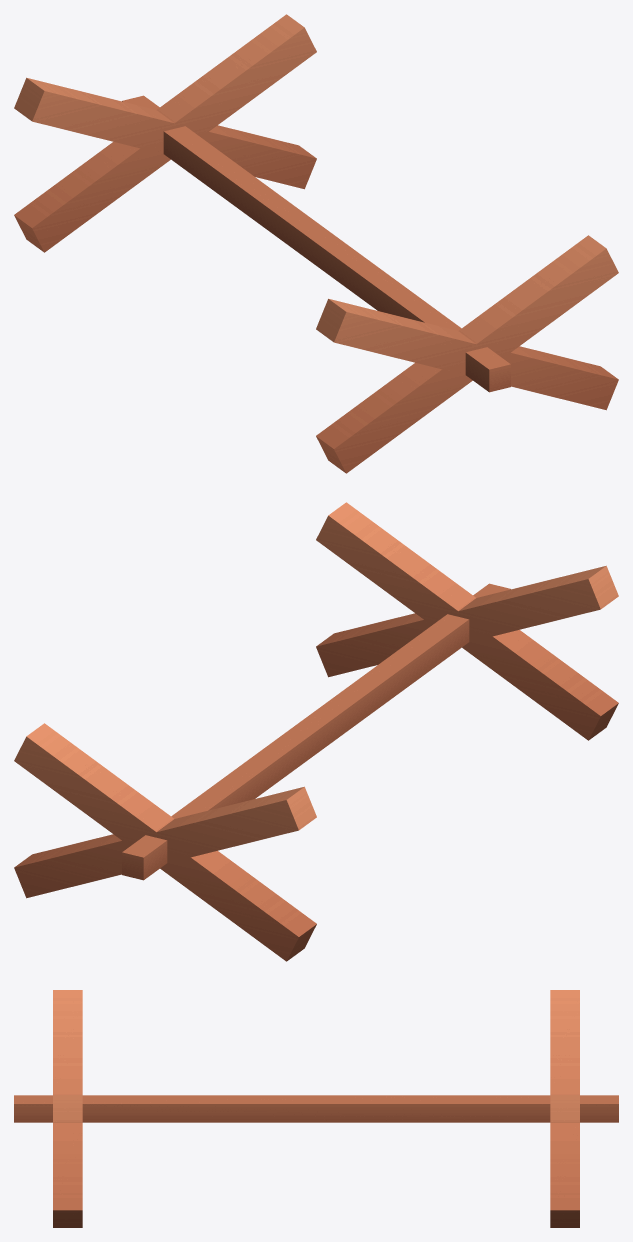
Rendered from bedroll-frame.glb.
3 renders of one model, top to bottom at view 1: azimuth 30°, elevation 25°; view 2: azimuth 150°, elevation 25°; view 3: azimuth 270°, elevation 25°, orthographic. The views are drawn at different scales.
Parts seen in each view (by area): view 1: bedroll-frame; view 2: bedroll-frame; view 3: bedroll-frame.
Boxes of the visible parts, left/top/right/bottom form: bedroll-frame: left=14, top=14, right=618, bottom=473; bedroll-frame: left=14, top=502, right=618, bottom=961; bedroll-frame: left=14, top=990, right=618, bottom=1227.
Size of the model in its own units: 1.37 by 0.7445 by 3.06.
1 material, 1 textured.
